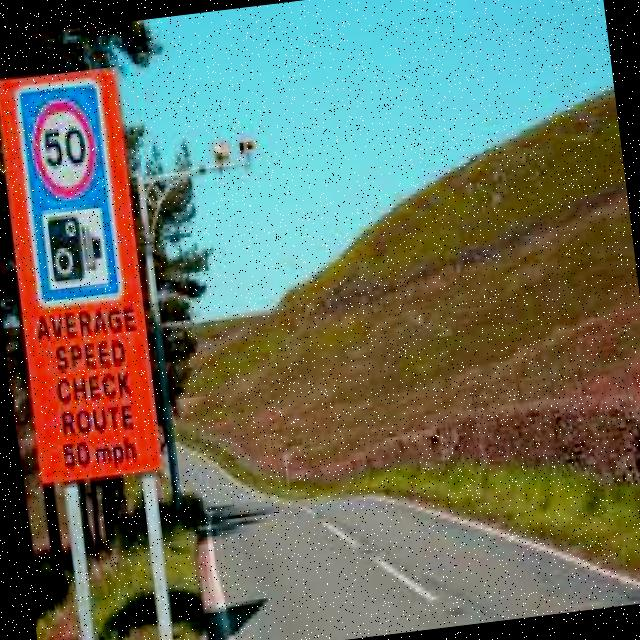Ograniczenie predkosci do 50: (28, 94, 106, 203)
